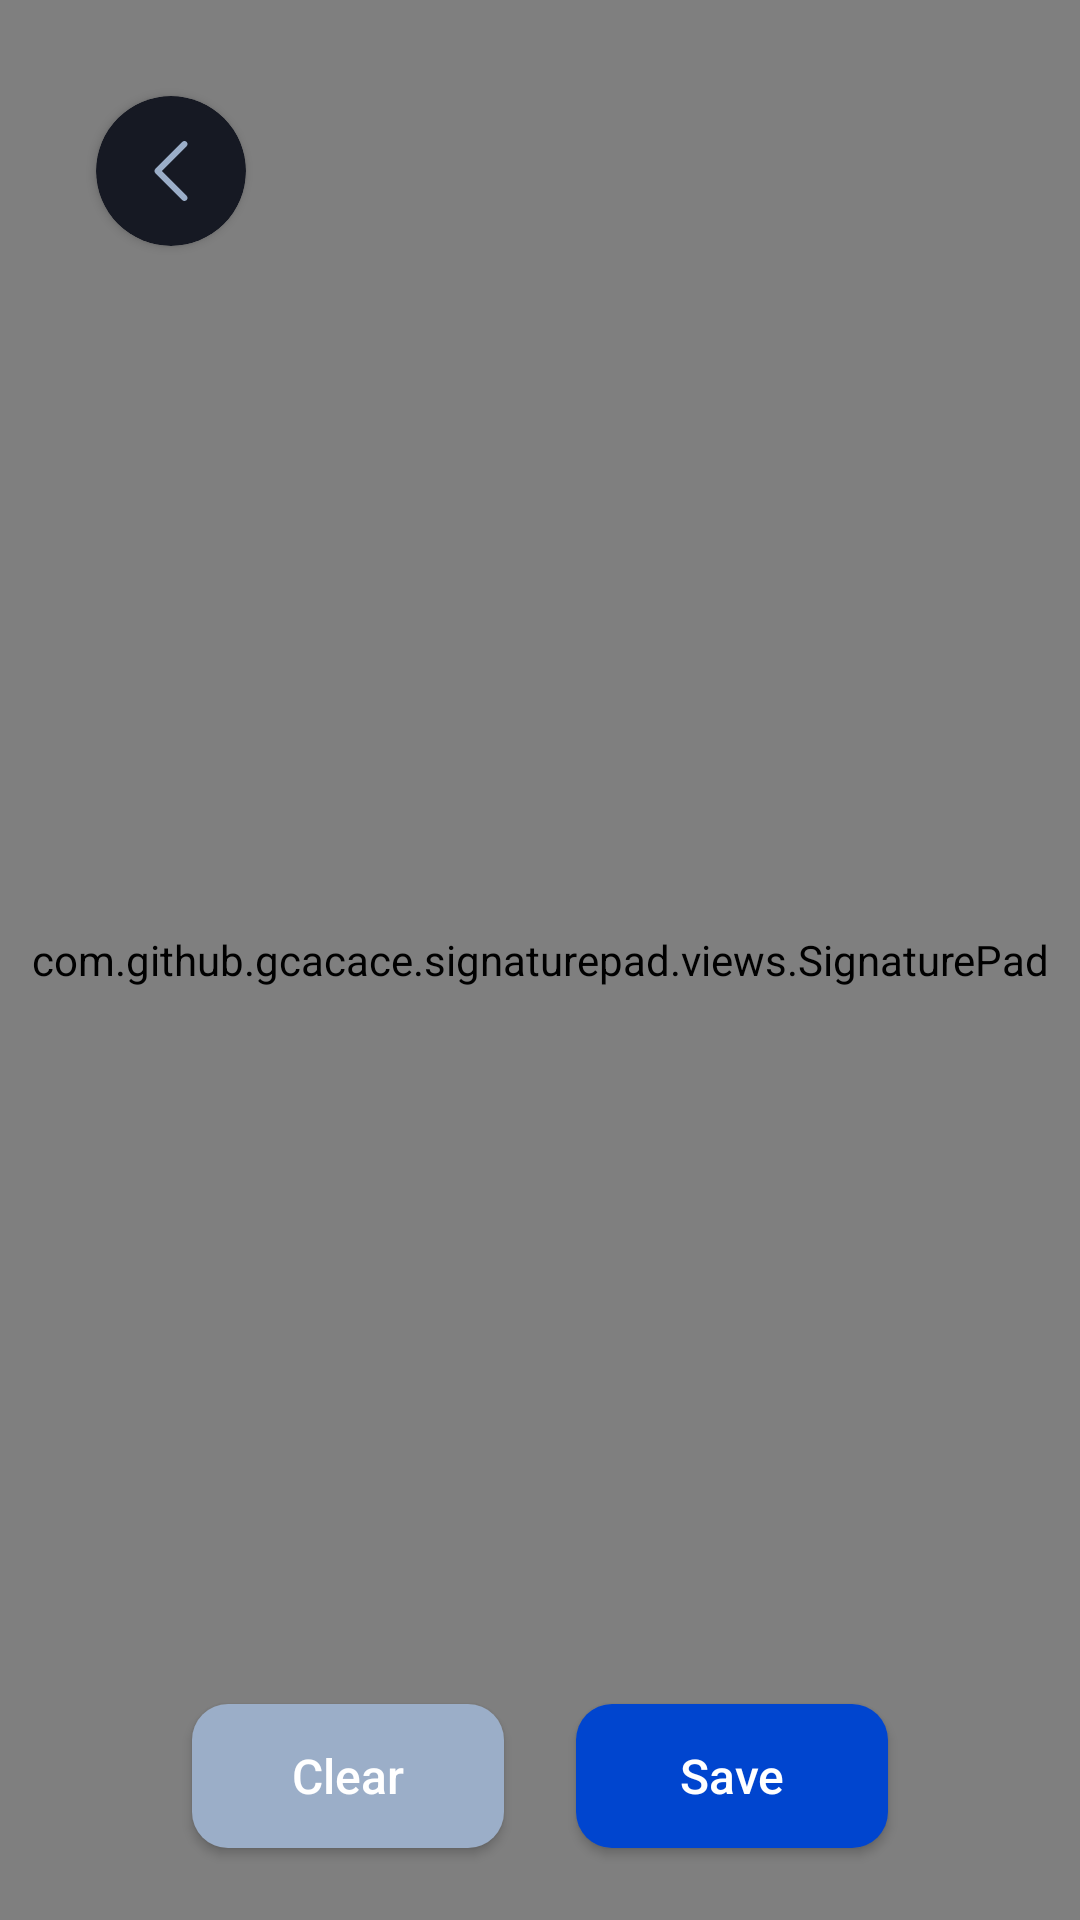

Where icons sit on this 1080*1920 app screen, as (x1,y1,x2,y2):
exit: (96,96,246,246)
